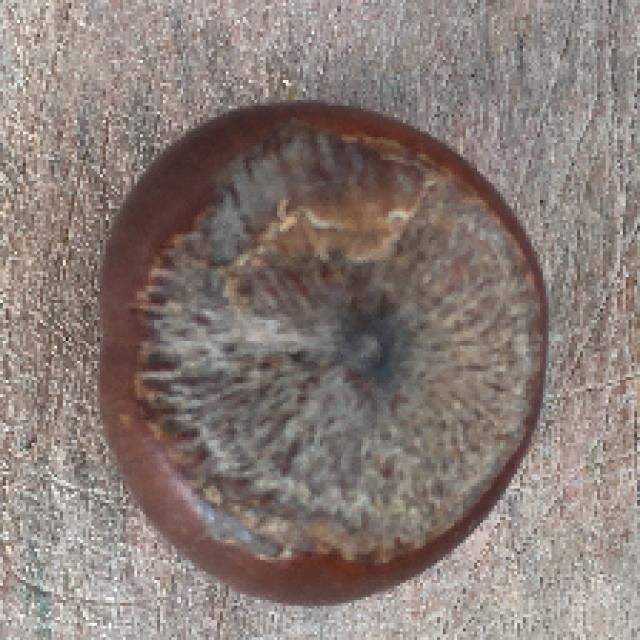damagedHazelnut: (92, 98, 551, 608)
